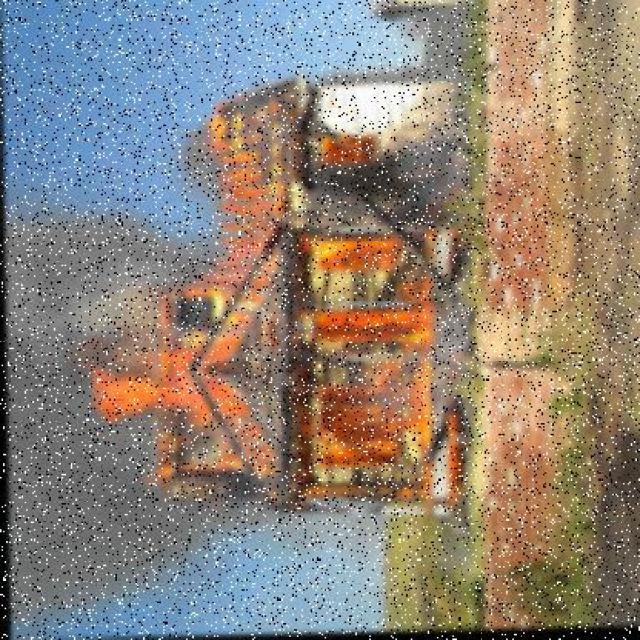fire: (79, 229, 454, 522)
